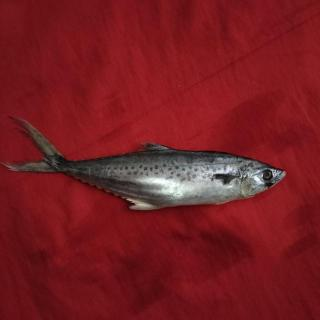Ikan: (4, 114, 292, 229)
